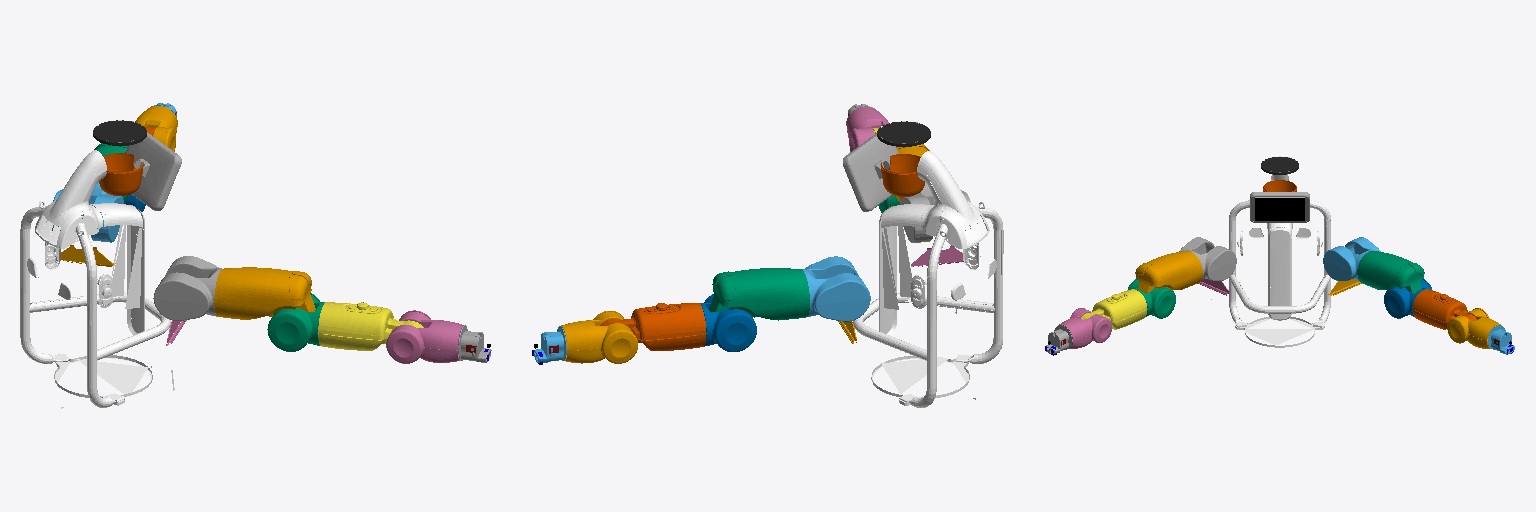
--- What the picture shows (computed from the rendered views, not written in the file) ---
Views: 3 orthographic renders of the robot side by side, from view 1: azimuth 30°, elevation 25°; view 2: azimuth 150°, elevation 25°; view 3: azimuth 270°, elevation 25°.
Model baxter with 49 links and 48 joints (15 revolute, 33 fixed), rooted at base, posed all joints at 0.
Visible links, largest first — view 1: torso, right_upper_elbow, right_upper_forearm, right_lower_shoulder, right_lower_forearm, screen, right_lower_elbow, head, sonar_ring, left_lower_forearm, left_lower_shoulder, right_wrist; view 2: torso, left_upper_elbow, left_upper_forearm, left_lower_shoulder, left_lower_forearm, screen, left_lower_elbow, head, sonar_ring, right_lower_forearm, right_lower_shoulder, left_wrist; view 3: torso, right_upper_elbow, left_upper_elbow, right_upper_forearm, left_upper_forearm, left_lower_shoulder, right_lower_shoulder, left_lower_forearm, right_lower_forearm, display, right_lower_elbow, left_lower_elbow (+2 smaller).
Link boxes in pixels (x1,y1,x2,y2): torso: (20, 120, 174, 408); right_upper_elbow: (214, 267, 315, 319); right_upper_forearm: (318, 302, 423, 350); right_lower_shoulder: (153, 256, 221, 320); right_lower_forearm: (386, 310, 463, 363); screen: (125, 132, 181, 210); right_lower_elbow: (267, 293, 324, 351); head: (99, 153, 143, 195); sonar_ring: (93, 120, 146, 145); left_lower_forearm: (135, 106, 177, 151); left_lower_shoulder: (52, 182, 123, 242); right_wrist: (458, 325, 491, 362); torso: (853, 121, 1003, 407); left_upper_elbow: (709, 268, 809, 320); left_upper_forearm: (600, 303, 706, 350); left_lower_shoulder: (802, 256, 870, 321); left_lower_forearm: (561, 311, 637, 363); screen: (843, 133, 898, 211); left_lower_elbow: (700, 294, 756, 351); head: (880, 154, 924, 196); sonar_ring: (877, 121, 930, 146); right_lower_forearm: (846, 107, 888, 151); right_lower_shoulder: (900, 182, 970, 242); left_wrist: (534, 326, 566, 362); torso: (1211, 156, 1330, 347); right_upper_elbow: (1135, 251, 1202, 293); left_upper_elbow: (1357, 251, 1424, 293); right_upper_forearm: (1081, 289, 1147, 329); left_upper_forearm: (1412, 289, 1476, 329); left_lower_shoulder: (1323, 237, 1380, 281); right_lower_shoulder: (1179, 237, 1236, 281); left_lower_forearm: (1447, 308, 1500, 348); right_lower_forearm: (1059, 308, 1111, 348); display: (1255, 198, 1304, 220); right_lower_elbow: (1128, 279, 1175, 318); left_lower_elbow: (1384, 279, 1431, 318).
Bounding box of the posed robot: 1.06 × 2.07 × 0.8942 m (x, y, z).
Meshes: 42 distinct files referenced, 38 mesh visuals loaded (23 OBJ); not drawn: 4 (reference not matched to a file when rendering).

The robot description file, URDF, robot "baxter":
<?xml version="1.0" ?>
<robot name="baxter">
   
  
   <link name="base">
  </link>
   
  
   <link name="torso">
      
    
      <collision>
         
      
         <origin rpy="0 0 0" xyz="0 0 0"/>
         
      
         <geometry>
            
        
            <mesh filename="package://baxter_description/meshes/torso/base_link_collision.DAE"/>
            
      
         </geometry>
         
    
      </collision>
      
    
      <inertial>
         
      
         <origin rpy="0 0 0" xyz="0.000000 0.000000 0.000000"/>
         
      
         <mass value="35.336455"/>
         
      
         <inertia ixx="1.849155" ixy="-0.000354" ixz="-0.154188" iyy="1.662671" iyz="0.003292" izz="0.802239"/>
         
    
      </inertial>
      
  
      <visual>
         <geometry>
            <mesh filename="../patched_visual_meshes/torso/base_link_part=0.obj"/>
         </geometry>
         <origin rpy="0.0 -0.0 0.0" xyz="0.0 0.0 0.0"/>
         <material name="mat_part7106">
            <color rgba="1.0 1.0 1.0 1.0"/>
         </material>
      </visual>
      <visual>
         <geometry>
            <mesh filename="../patched_visual_meshes/torso/base_link_part=1.obj"/>
         </geometry>
         <origin rpy="0.0 -0.0 0.0" xyz="0.0 0.0 0.0"/>
         <material name="mat_part4896">
            <color rgba="1.0 1.0 1.0 1.0"/>
         </material>
      </visual>
      <visual>
         <geometry>
            <mesh filename="../patched_visual_meshes/torso/base_link_part=2.obj"/>
         </geometry>
         <origin rpy="0.0 -0.0 0.0" xyz="0.0 0.0 0.0"/>
         <material name="mat_part865">
            <color rgba="1.0 1.0 1.0 1.0"/>
         </material>
      </visual>
      <visual>
         <geometry>
            <mesh filename="../patched_visual_meshes/torso/base_link_part=3.obj"/>
         </geometry>
         <origin rpy="0.0 -0.0 0.0" xyz="0.0 0.0 0.0"/>
         <material name="mat_part4314">
            <color rgba="1.0 1.0 1.0 1.0"/>
         </material>
      </visual>
      <visual>
         <geometry>
            <mesh filename="../patched_visual_meshes/torso/base_link_part=4.obj"/>
         </geometry>
         <origin rpy="0.0 -0.0 0.0" xyz="0.0 0.0 0.0"/>
         <material name="mat_part4625">
            <color rgba="1.0 1.0 1.0 1.0"/>
         </material>
      </visual>
      <visual>
         <geometry>
            <mesh filename="../patched_visual_meshes/torso/base_link_part=5.obj"/>
         </geometry>
         <origin rpy="0.0 -0.0 0.0" xyz="0.0 0.0 0.0"/>
         <material name="mat_part4949">
            <color rgba="1.0 1.0 1.0 1.0"/>
         </material>
      </visual>
   </link>
   
  
   <link name="left_torso_itb">
      
    
      <inertial>
         
      
         <origin rpy="0 0 0" xyz="0.000000 0.000000 0.000000"/>
         
      
         <mass value="0.0001"/>
         
      
         <inertia ixx="1e-08" ixy="0" ixz="0" iyy="1e-08" iyz="0" izz="1e-08"/>
         
    
      </inertial>
      
  
   </link>
   
  
   <link name="right_torso_itb">
      
    
      <inertial>
         
      
         <origin rpy="0 0 0" xyz="0.000000 0.000000 0.000000"/>
         
      
         <mass value="0.0001"/>
         
      
         <inertia ixx="1e-08" ixy="0" ixz="0" iyy="1e-08" iyz="0" izz="1e-08"/>
         
    
      </inertial>
      
  
   </link>
   
  
   <link name="pedestal">
      
    
      <collision>
         
      
         <origin rpy="0 0 0" xyz="0 0 0"/>
         
      
         <geometry>
            
        
            <mesh filename="package://baxter_description/meshes/base/pedestal_link_collision.DAE"/>
            
      
         </geometry>
         
    
      </collision>
      
    
      <inertial>
         
      
         <origin rpy="0 0 0" xyz="0 0 0"/>
         
      
         <mass value="60.86397744"/>
         
      
         <inertia ixx="5.0635929" ixy="0.00103417" ixz="0.80199628" iyy="6.08689388" iyz="0.00105311" izz="4.96191932"/>
         
    
      </inertial>
      
  
      <visual>
         <geometry>
            <mesh filename="../patched_visual_meshes/pedestal/PEDESTAL_part=0.obj"/>
         </geometry>
         <origin rpy="0.0 -0.0 0.0" xyz="0.0 0.0 0.0"/>
      </visual>
   </link>
   
  
   <link name="head">
      
    
      <collision>
         
      
         <origin rpy="0 0 0" xyz="0.0 0 0.0"/>
         
      
         <geometry>
            
        
            <sphere radius="0.001"/>
            
      
         </geometry>
         
    
      </collision>
      
    
      <inertial>
         
      
         <origin rpy="0 0 0" xyz="0 0 0"/>
         
      
         <mass value="0.547767"/>
         
      
         <inertia ixx="0.004641" ixy="0.000159" ixz="0.000242" iyy="0.003295" iyz="-0.001324" izz="0.003415"/>
         
    
      </inertial>
      
  
      <visual>
         <geometry>
            <mesh filename="../patched_visual_meshes/head/H0_part=0.obj"/>
         </geometry>
         <origin rpy="0.0 -0.0 0.0" xyz="0.0 0.0 0.00953"/>
      </visual>
   </link>
   
  
   <link name="sonar_ring">
      
    
      <visual>
         
      
         <origin rpy="0 0 0" xyz="-.0347 0 .00953"/>
         
      
         <geometry>
            
        
            <cylinder length="0.01" radius="0.085"/>
            
      
         </geometry>
         
      
         <material name="darkgray">
            
        
            <color rgba=".2 .2 .2 1"/>
            
      
         </material>
         
    
      </visual>
      
    
      <collision>
         
      
         <origin rpy="0 0 0" xyz="0.0 0 0.0"/>
         
      
         <geometry>
            
        
            <sphere radius="0.001"/>
            
      
         </geometry>
         
    
      </collision>
      
    
      <inertial>
         
      
         <origin rpy="0 0 0" xyz="0 0 0"/>
         
      
         <mass value="0.0001"/>
         
      
         <inertia ixx="1e-08" ixy="0" ixz="0" iyy="1e-08" iyz="0" izz="1e-08"/>
         
    
      </inertial>
      
  
   </link>
   
  
   <link name="screen">
      
    
      <collision>
         
      
         <origin rpy="0 0 0" xyz="0.0 0 0.0"/>
         
      
         <geometry>
            
        
            <sphere radius="0.001"/>
            
      
         </geometry>
         
    
      </collision>
      
    
      <inertial>
         
      
         <origin rpy="0 0 0" xyz="0 0 0"/>
         
      
         <mass value="0.440171"/>
         
      
         <inertia ixx="0.004006" ixy="0.000230" ixz="0.000002" iyy="0.002800" iyz="0.000029" izz="0.001509"/>
         
    
      </inertial>
      
  
      <visual>
         <geometry>
            <mesh filename="../patched_visual_meshes/screen/H1_part=0.obj"/>
         </geometry>
         <origin rpy="-0.0 -1.5707963267948966 0.0" xyz="0.0 -0.00953 -0.0347"/>
      </visual>
      <visual>
         <geometry>
            <mesh filename="../patched_visual_meshes/screen/H1_part=1.obj"/>
         </geometry>
         <origin rpy="-0.0 -1.5707963267948966 0.0" xyz="0.0 -0.00953 -0.0347"/>
      </visual>
   </link>
   
  
   <link name="display">
      
    
      <visual>
         
      
         <origin rpy="0.2617993877991494 0 0" xyz="0 0 0"/>
         
      
         <geometry>
            
        
            <box size="0.218 0.16 0.001"/>
            
      
         </geometry>
         
      
         <material name="black">
            
        
            <color rgba="0 0 0 1"/>
            
      
         </material>
         
    
      </visual>
      
    
      <inertial>
         
      
         <origin rpy="0 0 0" xyz="0 0 0"/>
         
      
         <mass value="0.0001"/>
         
      
         <inertia ixx="1e-08" ixy="0" ixz="0" iyy="1e-08" iyz="0" izz="1e-08"/>
         
    
      </inertial>
      
  
   </link>
   
  
   <link name="head_camera">
      
    
      <inertial>
         
      
         <origin rpy="0 0 0" xyz="0 0 0"/>
         
      
         <mass value="0.0001"/>
         
      
         <inertia ixx="1e-08" ixy="0" ixz="0" iyy="1e-08" iyz="0" izz="1e-08"/>
         
    
      </inertial>
      
  
   </link>
   
  
   <link name="dummyhead1">
      
    
      <inertial>
         
      
         <origin rpy="0 0 0" xyz="0 0 0"/>
         
      
         <mass value="0.0001"/>
         
      
         <inertia ixx="1e-08" ixy="0" ixz="0" iyy="1e-08" iyz="0" izz="1e-08"/>
         
    
      </inertial>
      
  
   </link>
   
  
   <link name="collision_head_link_1">
      
    
      <visual>
         
      
         <origin rpy="0 0 0" xyz="0 0 0"/>
         
      
         <geometry>
            
        
            <sphere radius="0.001"/>
            
      
         </geometry>
         
      
         <material name="red">
            
        
            <color rgba="0.8 0.3 0.3 0.3"/>
            
      
         </material>
         
    
      </visual>
      
    
      <collision>
         
      
         <origin rpy="0 0 0.0" xyz="-0.07 -0.04 0.0"/>
         
      
         <geometry>
            
        
            <sphere radius="0.22"/>
            
      
         </geometry>
         
    
      </collision>
      
    
      <inertial>
         
      
         <origin rpy="0 0 0" xyz="0 0 0"/>
         
      
         <mass value="0.0001"/>
         
      
         <inertia ixx="1e-08" ixy="0" ixz="0" iyy="1e-08" iyz="0" izz="1e-08"/>
         
    
      </inertial>
      
  
   </link>
   
  
   <link name="collision_head_link_2">
      
    
      <visual>
         
      
         <origin rpy="0 0 0" xyz="0 0 0"/>
         
      
         <geometry>
            
        
            <sphere radius="0.001"/>
            
      
         </geometry>
         
      
         <material name="red">
            
        
            <color rgba="0.8 0.3 0.3 0.3"/>
            
      
         </material>
         
    
      </visual>
      
    
      <collision>
         
      
         <origin rpy="0 0 0" xyz="-0.07 0.04 0.00"/>
         
      
         <geometry>
            
        
            <sphere radius="0.22"/>
            
      
         </geometry>
         
    
      </collision>
      
    
      <inertial>
         
      
         <origin rpy="0 0 0" xyz="0 0 0"/>
         
      
         <mass value="0.0001"/>
         
      
         <inertia ixx="1e-08" ixy="0" ixz="0" iyy="1e-08" iyz="0" izz="1e-08"/>
         
    
      </inertial>
      
  
   </link>
   
  
   <joint name="collision_head_1" type="fixed">
      
    
      <origin rpy="0 0 0" xyz="0.11 0 0.75"/>
      
    
      <parent link="base"/>
      
    
      <child link="collision_head_link_1"/>
      
  
   </joint>
   
  
   <joint name="collision_head_2" type="fixed">
      
    
      <origin rpy="0 0 0" xyz="0.11 0 0.75"/>
      
    
      <parent link="base"/>
      
    
      <child link="collision_head_link_2"/>
      
  
   </joint>
   
  
   <joint name="dummy" type="fixed">
      
    
      <origin rpy="0 0 0" xyz="0 0 0"/>
      
    
      <parent link="head"/>
      
    
      <child link="dummyhead1"/>
      
  
   </joint>
   
  
   <joint name="torso_t0" type="fixed">
      
    
      <origin rpy="0 0 0" xyz="0 0 0"/>
      
    
      <parent link="base"/>
      
    
      <child link="torso"/>
      
    
      <limit effort="50000" lower="-3.01" upper="3.01" velocity="10000"/>
      
  
   </joint>
   
  
   <joint name="left_torso_itb_fixed" type="fixed">
      
    
      <origin rpy="-1.57079632679 3.1415 0" xyz="-0.08897 0.15593 0.389125"/>
      
    
      <parent link="torso"/>
      
    
      <child link="left_torso_itb"/>
      
  
   </joint>
   
  
   <joint name="right_torso_itb_fixed" type="fixed">
      
    
      <origin rpy="1.57079632679 0 0" xyz="-0.08897 -0.15593 0.389125"/>
      
    
      <parent link="torso"/>
      
    
      <child link="right_torso_itb"/>
      
  
   </joint>
   
  
   <joint name="pedestal_fixed" type="fixed">
      
    
      <origin rpy="0 0 0" xyz="0.0 0.0 0.0"/>
      
    
      <parent link="torso"/>
      
    
      <child link="pedestal"/>
      
  
   </joint>
   
  
   <joint name="head_pan" type="revolute">
      
    
      <origin rpy="0 0 0" xyz="0.06 0 0.686"/>
      
    
      <axis xyz="0 0 1"/>
      
    
      <parent link="torso"/>
      
    
      <child link="head"/>
      
    
      <limit effort="50000" lower="-1.57079632679" upper="1.57079632679" velocity="10000"/>
      
    
      <dynamics damping="0.7" friction="0.0"/>
      
  
   </joint>
   
  
   <joint name="head_nod" type="fixed">
      
    
      <origin rpy="1.75057 0 1.57079632679" xyz=".1227 0 0"/>
      
    
      <parent link="head"/>
      
    
      <child link="screen"/>
      
  
   </joint>
   
  
   <joint name="head_camera" type="fixed">
      
    
      <origin rpy="1.75057 0 1.57079632679" xyz="0.12839 0 0.06368"/>
      
    
      <parent link="head"/>
      
    
      <child link="head_camera"/>
      
  
   </joint>
   
  
   <joint name="display_joint" type="fixed">
      
    
      <origin rpy="0 0 0" xyz="0.0 -0.016 0.0"/>
      
    
      <parent link="screen"/>
      
    
      <child link="display"/>
      
  
   </joint>
   
  
   <joint name="sonar_s0" type="fixed">
      
    
      <origin rpy="0 0 0" xyz="0.0947 0 .817"/>
      
    
      <axis xyz="0 0 1"/>
      
    
      <parent link="torso"/>
      
    
      <child link="sonar_ring"/>
      
  
   </joint>
   
  
   <link name="right_arm_mount">
      
    
 
      <gravity>0</gravity>
      
    
      <inertial>
         
      
         <origin rpy="0 0 0" xyz="0 0 0"/>
         
      
         <mass value="0.0001"/>
         
      
         <inertia ixx="1e-08" ixy="0" ixz="0" iyy="1e-08" iyz="0" izz="1e-08"/>
         
    
      </inertial>
      
  
   </link>
   
  
   <link name="right_upper_shoulder">
      
 
      <gravity>0</gravity>
      
    
      <collision>
         
      
         <origin rpy="0 0 0" xyz="0 0 0.1361"/>
         
      
         <geometry>
            
        
            <cylinder length="0.2722" radius="0.06"/>
            
      
         </geometry>
         
    
      </collision>
      
    
      <inertial>
         
      
         <origin rpy="0 0 0" xyz="0.01783 0.00086 0.19127"/>
         
      
         <mass value="5.70044"/>
         
      
         <inertia ixx="0.04709102262" ixy="0.00012787556" ixz="0.00614870039" iyy="0.03766976455" iyz="0.00078086899" izz="0.03595988478"/>
         
    
      </inertial>
      
  
      <visual>
         <geometry>
            <mesh filename="../patched_visual_meshes/right_upper_shoulder/S0_part=0.obj"/>
         </geometry>
         <origin rpy="0.0 -0.0 0.0" xyz="0.0 0.0 0.0"/>
      </visual>
      <visual>
         <geometry>
            <mesh filename="../patched_visual_meshes/right_upper_shoulder/S0_part=1.obj"/>
         </geometry>
         <origin rpy="0.0 -0.0 0.0" xyz="0.0 0.0 0.0"/>
      </visual>
   </link>
   
  
   <link name="right_lower_shoulder">
      
 
      <gravity>0</gravity>
      
    
      <collision>
         
      
         <origin rpy="0 0 0" xyz="0 0 0"/>
         
      
         <geometry>
            
        
            <cylinder length="0.12" radius="0.06"/>
            
      
         </geometry>
         
    
      </collision>
      
    
      <inertial>
         
      
         <origin rpy="0 0 0" xyz="0.06845 0.00269 -0.00529"/>
         
      
         <mass value="3.22698"/>
         
      
         <inertia ixx="0.01175209419" ixy="-0.00030096398" ixz="0.00207675762" iyy="0.0278859752" iyz="-0.00018821993" izz="0.02078749298"/>
         
    
      </inertial>
      
  
      <visual>
         <geometry>
            <mesh filename="../patched_visual_meshes/right_lower_shoulder/S1_part=0.obj"/>
         </geometry>
         <origin rpy="0.0 -0.0 0.0" xyz="0.0 0.0 0.0"/>
      </visual>
   </link>
   
  
   <link name="right_upper_elbow">
      
 
      <gravity>0</gravity>
      
    
      <collision>
         
      
         <origin rpy="0 0 0" xyz="0 0 -0.0535"/>
         
      
         <geometry>
            
        
            <cylinder length="0.107" radius="0.06"/>
            
      
         </geometry>
         
    
      </collision>
      
    
      <inertial>
         
      
         <origin rpy="0 0 0" xyz="-0.00276 0.00132 0.18086"/>
         
      
         <mass value="4.31272"/>
         
      
         <inertia ixx="0.02661733557" ixy="0.00029270634" ixz="0.00392189887" iyy="0.02844355207" iyz="0.0010838933" izz="0.01248008322"/>
         
    
      </inertial>
      
  
      <visual>
         <geometry>
            <mesh filename="../patched_visual_meshes/right_upper_elbow/E0_part=0.obj"/>
         </geometry>
         <origin rpy="0.0 -0.0 0.0" xyz="0.0 0.0 0.0"/>
      </visual>
      <visual>
         <geometry>
            <mesh filename="../patched_visual_meshes/right_upper_elbow/E0_part=1.obj"/>
         </geometry>
         <origin rpy="0.0 -0.0 0.0" xyz="0.0 0.0 0.0"/>
      </visual>
   </link>
   
  
   <link name="right_upper_elbow_visual">
      
 
      <gravity>0</gravity>
      
    
      <collision>
         
      
         <origin rpy="0 0 0" xyz="0 0 0.1365"/>
         
      
         <geometry>
            
        
            <cylinder length="0.273" radius="0.06"/>
            
      
         </geometry>
         
    
      </collision>
      
    
      <inertial>
         
      
         <origin rpy="0 0 0" xyz="0 0 0"/>
         
      
         <mass value="0.0001"/>
         
      
         <inertia ixx="1e-08" ixy="0" ixz="0" iyy="1e-08" iyz="0" izz="1e-08"/>
         
    
      </inertial>
      
  
   </link>
   
  
   <link name="right_lower_elbow">
      
 
      <gravity>0</gravity>
      
    
      <collision>
         
      
         <origin rpy="0 0 0" xyz="0.0 0.0 0.0"/>
         
      
         <geometry>
            
        
            <cylinder length="0.10" radius="0.06"/>
            
      
         </geometry>
         
    
      </collision>
      
    
      <inertial>
         
      
         <origin rpy="0 0 0" xyz="0.02611 0.00159 -0.01117"/>
         
      
         <mass value="2.07206"/>
         
      
         <inertia ixx="0.00711582686" ixy="0.00036036173" ixz="0.0007459496" iyy="0.01318227876" iyz="-0.00019663418" izz="0.00926852064"/>
         
    
      </inertial>
      
  
      <visual>
         <geometry>
            <mesh filename="../patched_visual_meshes/right_lower_elbow/E1_part=0.obj"/>
         </geometry>
         <origin rpy="0.0 -0.0 0.0" xyz="0.0 0.0 0.0"/>
      </visual>
      <visual>
         <geometry>
            <mesh filename="../patched_visual_meshes/right_lower_elbow/E1_part=1.obj"/>
         </geometry>
         <origin rpy="0.0 -0.0 0.0" xyz="0.0 0.0 0.0"/>
      </visual>
   </link>
   
  
   <link name="right_upper_forearm">
      
 
      <gravity>0</gravity>
      
    
      <collision>
         
      
         <origin rpy="0 0 0" xyz="0 0 -0.044"/>
         
      
         <geometry>
            
        
            <cylinder length="0.088" radius="0.06"/>
            
      
         </geometry>
         
    
      </collision>
      
    
      <inertial>
         
      
         <origin rpy="0 0 0" xyz="-0.00168 0.0046 0.13952"/>
         
      
         <mass value="2.24665"/>
         
      
         <inertia ixx="0.01667742825" ixy="0.00018403705" ixz="0.00018657629" iyy="0.01675457264" iyz="-0.00064732352" izz="0.0037463115"/>
         
    
      </inertial>
      
  
      <visual>
         <geometry>
            <mesh filename="../patched_visual_meshes/right_upper_forearm/W0_part=0.obj"/>
         </geometry>
         <origin rpy="0.0 -0.0 0.0" xyz="0.0 0.0 0.0"/>
      </visual>
      <visual>
         <geometry>
            <mesh filename="../patched_visual_meshes/right_upper_forearm/W0_part=1.obj"/>
         </geometry>
         <origin rpy="0.0 -0.0 0.0" xyz="0.0 0.0 0.0"/>
      </visual>
      <visual>
         <geometry>
            <mesh filename="../patched_visual_meshes/right_upper_forearm/W0_part=2.obj"/>
         </geometry>
         <origin rpy="0.0 -0.0 0.0" xyz="0.0 0.0 0.0"/>
      </visual>
      <visual>
         <geometry>
            <mesh filename="../patched_visual_meshes/right_upper_forearm/W0_part=3.obj"/>
         </geometry>
         <origin rpy="0.0 -0.0 0.0" xyz="0.0 0.0 0.0"/>
      </visual>
   </link>
   
  
   <link name="right_upper_forearm_visual">
      
 
      <gravity>0</gravity>
      
    
      <collision>
         
      
         <origin rpy="0 0 0" xyz="0 0 0.136"/>
         
      
         <geometry>
            
        
            <cylinder length="0.272" radius="0.06"/>
            
      
         </geometry>
         
    
      </collision>
      
    
      <inertial>
         
      
         <origin rpy="0 0 0" xyz="0 0 0"/>
         
      
         <mass value="0.0001"/>
         
      
         <inertia ixx="1e-08" ixy="0" ixz="0" iyy="1e-08" iyz="0" izz="1e-08"/>
         
    
      </inertial>
      
  
   </link>
   
  
   <link name="right_arm_itb">
      
 
      <gravity>0</gravity>
      
    
      <inertial>
         
      
         <origin rpy="0 0 0" xyz="0.000000 0.000000 0.000000"/>
         
      
         <mass value="0.0001"/>
         
      
         <inertia ixx="1e-08" ixy="0" ixz="0" iyy="1e-08" iyz="0" izz="1e-08"/>
         
    
      </inertial>
      
  
   </link>
   
  
   <link name="right_lower_forearm">
      
 
      <gravity>0</gravity>
      
    
      <collision>
         
      
         <origin rpy="0 0 0" xyz="0 0 0"/>
         
      
         <geometry>
            
        
            <cylinder length="0.10" radius="0.06"/>
            
      
         </geometry>
         
    
      </collision>
      
    
      <inertial>
         
      
         <origin rpy="0 0 0" xyz="0.06041 0.00697 0.006"/>
         
      
         <mass value="1.60979"/>
         
      
         <inertia ixx="0.00387607152" ixy="-0.00044384784" ixz="-0.00021115038" iyy="0.00700537914" iyz="0.00015348067" izz="0.0055275524"/>
         
    
      </inertial>
      
  
      <visual>
         <geometry>
            <mesh filename="../patched_visual_meshes/right_lower_forearm/W1_part=0.obj"/>
         </geometry>
         <origin rpy="-3.1415908336597447 -0.0 0.0" xyz="0.0 0.0 0.0"/>
      </visual>
      <visual>
         <geometry>
            <mesh filename="../patched_visual_meshes/right_lower_forearm/W1_part=1.obj"/>
         </geometry>
         <origin rpy="-3.1415908336597447 -0.0 0.0" xyz="0.0 0.0 0.0"/>
      </visual>
   </link>
   
  
   <link name="right_wrist">
      
 
      <gravity>0</gravity>
      
    
      <collision>
         
      
         <origin rpy="0 0 0" xyz="0 0 0"/>
         
      
         <geometry>
            
        
            <cylinder length="0.165" radius="0.06"/>
            
      
         </geometry>
         
    
      </collision>
      
    
      <inertial>
         
      
         <origin rpy="0 0 0" xyz="0.00198 0.00125 0.01855"/>
         
      
         <mass value="0.35093"/>
         
      
         <inertia ixx="0.00025289155" ixy="0.00000575311" ixz="-0.00000159345" iyy="0.0002688601" iyz="-0.00000519818" izz="0.0003074118"/>
         
    
      </inertial>
      
  
      <visual>
         <geometry>
            <mesh filename="../patched_visual_meshes/right_wrist/W2_part=0.obj"/>
         </geometry>
         <origin rpy="0.0 -0.0 0.0" xyz="0.0 0.0 0.0"/>
      </visual>
      <visual>
         <geometry>
            <mesh filename="../patched_visual_meshes/right_wrist/W2_part=1.obj"/>
         </geometry>
         <origin rpy="0.0 -0.0 0.0" xyz="0.0 0.0 0.0"/>
      </visual>
      <visual>
         <geometry>
            <mesh filename="../patched_visual_meshes/right_wrist/W2_part=2.obj"/>
         </geometry>
         <origin rpy="0.0 -0.0 0.0" xyz="0.0 0.0 0.0"/>
      </visual>
   </link>
   
  
   <link name="right_hand">
      
 
      <gravity>0</gravity>
      
    
      <collision>
         
      
         <origin rpy="0 0 0" xyz="0 0 -0.0232"/>
         
      
         <geometry>
            
        
            <cylinder length="0.0464" radius="0.04"/>
            
      
         </geometry>
         
    
      </collision>
      
    
      <inertial>
         
      
         <origin rpy="0 0 0" xyz="0.01093 0.00042 -0.01532"/>
         
      
         <mass value="0.19125"/>
         
      
         <inertia ixx="0.00017588" ixy="0.00000147073" ixz="0.0000243633" iyy="0.00021166377" iyz="0.00000172689" izz="0.00023745397"/>
         
    
      </inertial>
      
  
   </link>
   
  
   <link name="right_hand_camera">
      
 
      <gravity>0</gravity>
      
    
      <visual>
         
      
         <origin rpy="0 0 0" xyz="0 0 0"/>
         
      
         <geometry>
            
        
            <cylinder length="0.01" radius="0.02"/>
            
      
         </geometry>
         
      
         <material name="blue">
            
        
            <color rgba="0 0 1 0.8"/>
            
      
         </material>
         
    
      </visual>
      
    
      <inertial>
         
      
         <origin rpy="0 0 0" xyz="0 0 0"/>
         
      
         <mass value="0.0001"/>
         
      
         <inertia ixx="1e-08" ixy="0" ixz="0" iyy="1e-08" iyz="0" izz="1e-08"/>
         
    
      </inertial>
      
  
   </link>
   
  
   <link name="right_hand_camera_axis">
      
 
      <gravity>0</gravity>
      
    
      <inertial>
         
      
         <origin rpy="0 0 0" xyz="0 0 0"/>
         
      
         <mass value="0.0001"/>
         
      
         <inertia ixx="1e-08" ixy="0" ixz="0" iyy="1e-08" iyz="0" izz="1e-08"/>
         
    
      </inertial>
      
  
   </link>
   
  
   <link name="right_hand_range">
      
 
      <gravity>0</gravity>
      
    
      <visual>
         
      
         <origin rpy="0 0 0" xyz="0 0 0"/>
         
      
         <geometry>
            
        
            <box size="0.005 .02 .005"/>
            
      
         </geometry>
         
      
         <material name="blue">
            
        
            <color rgba="0 0 1 0.8"/>
            
      
         </material>
         
    
      </visual>
      
    
      <inertial>
         
      
         <origin rpy="0 0 0" xyz="0 0 0"/>
         
      
         <mass value="0.0001"/>
         
      
         <inertia ixx="1e-08" ixy="0" ixz="0" iyy="1e-08" iyz="0" izz="1e-08"/>
         
    
      </inertial>
      
  
   </link>
   
  
   <link name="right_hand_accelerometer">
      
 
      <gravity>0</gravity>
      
    
      <visual>
         
      
         <origin rpy="0 0 0" xyz="0 0 0"/>
         
      
         <geometry>
            
        
            <box size="0.01 0.01 0.01"/>
            
      
         </geometry>
         
      
         <material name="black">
            
        
            <color rgba="0 0 0 1"/>
            
      
         </material>
         
    
      </visual>
      
    
      <inertial>
         
      
         <origin rpy="0 0 0" xyz="0.000000 0.000000 0.000000"/>
         
      
         <mass value="0.0001"/>
         
      
         <inertia ixx="1e-08" ixy="0" ixz="0" iyy="1e-08" iyz="0" izz="1e-08"/>
         
    
      </inertial>
      
  
   </link>
   
  
   <link name="right_gripper_base">
      
 
      <gravity>0</gravity>
      
    
      <visual>
         
      
         <origin rpy="0 0 0" xyz="0 0 -0.02"/>
         
      
         <geometry>
            
        
            <box size="0.025 0.075 0.035"/>
            
      
         </geometry>
         
      
         <material name="darkred">
            
        
            <color rgba=".5 .1 .1 1"/>
            
      
         </material>
         
    
      </visual>
      
    
      <inertial>
         
      
         <origin rpy="0 0 0" xyz="0.000000 0.000000 0.000000"/>
         
      
         <mass value="0.0001"/>
         
      
         <inertia ixx="1e-08" ixy="0" ixz="0" iyy="1e-08" iyz="0" izz="1e-08"/>
         
    
      </inertial>
      
  
   </link>
   
  
   <link name="right_gripper">
      
 
      <gravity>0</gravity>
      
    
      <visual>
         
      
         <origin rpy="0 0 0" xyz="0 0 0"/>
         
      
         <geometry>
            
        
            <box size="0.01 0.01 0.01"/>
            
      
         </geometry>
         
      
         <material name="black">
            
        
            <color rgba="0 0 0 1"/>
            
      
         </material>
         
    
      </visual>
      
    
      <inertial>
         
      
         <origin rpy="0 0 0" xyz="0.000000 0.000000 0.000000"/>
         
      
         <mass value="0.0001"/>
         
      
         <inertia ixx="1e-08" ixy="0" ixz="0" iyy="1e-08" iyz="0" izz="1e-08"/>
         
    
      </inertial>
      
  
   </link>
   
  
   <joint name="right_torso_arm_mount" type="fixed">
      
    
      <origin rpy="0 0 -0.7854" xyz="0.024645 -0.219645 0.118588"/>
      
    
      <parent link="torso"/>
      
    
      <child link="right_arm_mount"/>
      
  
   </joint>
   
  
   <joint name="right_s0" type="revolute">
      
    
      <origin rpy="0 0 0" xyz="0.055695 0 0.011038"/>
      
    
      <axis xyz="0 0 1"/>
      
    
      <parent link="right_arm_mount"/>
      
    
      <child link="right_upper_shoulder"/>
      
    
      <limit effort="50.0" lower="-1.70167993878" upper="1.70167993878" velocity="1.5"/>
      
    
      <dynamics damping="0.7" friction="0.0"/>
      
  
   </joint>
   
  
   <joint name="right_s1" type="revolute">
      
    
      <origin rpy="-1.57079632679 0 0" xyz="0.069 0 0.27035"/>
      
    
      <axis xyz="0 0 1"/>
      
    
      <parent link="right_upper_shoulder"/>
      
    
      <child link="right_lower_shoulder"/>
      
    
      <limit effort="100.0" lower="-2.147" upper="1.047" velocity="1.5"/>
      
    
      <dynamics damping="0.7" friction="0.0"/>
      
  
   </joint>
   
  
   <joint name="right_e0" type="revolute">
      
    
      <origin rpy="1.57079632679 0 1.57079632679" xyz="0.102 0 0"/>
      
    
      <axis xyz="0 0 1"/>
      
    
      <parent link="right_lower_shoulder"/>
      
    
      <child link="right_upper_elbow"/>
      
    
      <limit effort="50.0" lower="-3.05417993878" upper="3.05417993878" velocity="1.5"/>
      
    
      <dynamics damping="0.7" friction="0.0"/>
      
  
   </joint>
   
  
   <joint name="right_e0_fixed" type="fixed">
      
    
      <origin rpy="1.57079632679 0 1.57079632679" xyz="0.107 0 0"/>
      
    
      <axis xyz="0 0 1"/>
      
    
      <parent link="right_lower_shoulder"/>
      
    
      <child link="right_upper_elbow_visual"/>
      
  
   </joint>
   
  
   <joint name="right_e1" type="revolute">
      
    
      <origin rpy="-1.57079632679 -1.57079632679 0" xyz="0.069 0 0.26242"/>
      
    
      <axis xyz="0 0 1"/>
      
    
      <parent link="right_upper_elbow"/>
      
    
      <child link="right_lower_elbow"/>
      
    
      <limit effort="50.0" lower="-0.05" upper="2.618" velocity="1.5"/>
      
    
      <dynamics damping="0.7" friction="0.0"/>
      
  
   </joint>
   
  
   <joint name="right_w0" type="revolute">
      
    
      <origin rpy="1.57079632679 0 1.57079632679" xyz="0.10359 0 0"/>
      
    
      <axis xyz="0 0 1"/>
      
    
      <parent link="right_lower_elbow"/>
      
    
      <child link="right_upper_forearm"/>
      
    
      <limit effort="15.0" lower="-3.059" upper="3.059" velocity="4.0"/>
      
    
      <dynamics damping="0.7" friction="0.0"/>
      
  
   </joint>
   
  
   <joint name="right_w0_fixed" type="fixed">
      
    
      <origin rpy="1.57079632679 0 1.57079632679" xyz="0.088 0 0"/>
      
    
      <axis xyz="0 0 1"/>
      
    
      <parent link="right_lower_elbow"/>
      
    
      <child link="right_upper_forearm_visual"/>
      
  
   </joint>
   
  
   <joint name="right_w0_to_itb_fixed" type="fixed">
      
    
      <origin rpy="-1.57079632679 0 1.57079632679" xyz="-0.0565 0 0.12"/>
      
    
      <axis xyz="0 0 1"/>
      
    
      <parent link="right_upper_forearm"/>
      
    
      <child link="right_arm_itb"/>
      
  
   </joint>
   
  
   <joint name="right_w1" type="revolute">
      
    
      <origin rpy="-1.57079632679 -1.57079632679 0" xyz="0.01 0 0.2707"/>
      
    
      <axis xyz="0 0 1"/>
      
    
      <parent link="right_upper_forearm"/>
      
    
      <child link="right_lower_forearm"/>
      
    
      <limit effort="15.0" lower="-1.57079632679" upper="2.094" velocity="4.0"/>
      
    
      <dynamics damping="0.7" friction="0.0"/>
      
  
   </joint>
   
  
   <joint name="right_w2" type="revolute">
      
    
      <origin rpy="1.57079632679 0 1.57079632679" xyz="0.115975 0 0"/>
      
    
      <axis xyz="0 0 1"/>
      
    
      <parent link="right_lower_forearm"/>
      
    
      <child link="right_wrist"/>
      
    
      <limit effort="15.0" lower="-3.059" upper="3.059" velocity="4.0"/>
      
    
      <dynamics damping="0.7" friction="0.0"/>
      
  
   </joint>
   
  
   <joint name="right_hand" type="fixed">
      
    
      <origin rpy="0 0 0" xyz="0 0 0.11355"/>
      
    
      <axis xyz="0 0 1"/>
      
    
      <parent link="right_wrist"/>
      
    
      <child link="right_hand"/>
      
    
      <dynamics damping="0.7" friction="0.0"/>
      
  
   </joint>
   
  
   <joint name="right_hand_camera" type="fixed">
      
    
      <origin rpy="0 0 -1.57079633" xyz="0.03825 0.012 0.015355"/>
      
    
      <parent link="right_hand"/>
      
    
      <child link="right_hand_camera"/>
      
  
   </joint>
   
  
   <joint name="right_hand_camera_axis" type="fixed">
      
    
      <origin rpy="0 0 0" xyz="0.03825 0.012 0.015355"/>
      
    
      <parent link="right_hand"/>
      
    
      <child link="right_hand_camera_axis"/>
      
  
   </joint>
   
  
   <joint name="right_hand_range" type="fixed">
      
    
      <origin rpy="0 -1.57079632679 -1.57079632679" xyz="0.032 -0.020245 0.0288"/>
      
    
      <parent link="right_hand"/>
      
    
      <child link="right_hand_range"/>
      
  
   </joint>
   
  
   <joint name="right_hand_accelerometer" type="fixed">
      
    
      <origin rpy="0 0 0" xyz="0.00198 0.000133 -0.0146"/>
      
    
      <parent link="right_hand"/>
      
    
      <child link="right_hand_accelerometer"/>
      
  
   </joint>
   
  
   <joint name="right_gripper_base" type="fixed">
      
    
      <origin rpy="0 0 0" xyz="0 0 0"/>
      
    
      <parent link="right_hand"/>
      
    
      <child link="right_gripper_base"/>
      
  
   </joint>
   
  
   <joint name="right_endpoint" type="fixed">
      
    
      <origin rpy="0 0 0" xyz="0.0 0 0.025"/>
      
    
      <parent link="right_gripper_base"/>
      
    
      <child link="right_gripper"/>
      
  
   </joint>
   
  
   <link name="left_arm_mount">
      
    
 
      <gravity>0</gravity>
      
    
      <inertial>
         
      
         <origin rpy="0 0 0" xyz="0 0 0"/>
         
      
         <mass value="0.0001"/>
         
      
         <inertia ixx="1e-08" ixy="0" ixz="0" iyy="1e-08" iyz="0" izz="1e-08"/>
         
    
      </inertial>
      
  
   </link>
   
  
   <link name="left_upper_shoulder">
      
 
      <gravity>0</gravity>
      
    
      <collision>
         
      
         <origin rpy="0 0 0" xyz="0 0 0.1361"/>
         
      
         <geometry>
            
        
            <cylinder length="0.2722" radius="0.06"/>
            
      
         </geometry>
         
    
      </collision>
      
    
      <inertial>
         
      
         <origin rpy="0 0 0" xyz="0.01783 0.00086 0.19127"/>
         
      
         <mass value="5.70044"/>
         
      
         <inertia ixx="0.04709102262" ixy="0.00012787556" ixz="0.00614870039" iyy="0.03766976455" iyz="0.00078086899" izz="0.03595988478"/>
         
    
      </inertial>
      
  
      <visual>
         <geometry>
            <mesh filename="../patched_visual_meshes/left_upper_shoulder/S0_part=0.obj"/>
         </geometry>
         <origin rpy="0.0 -0.0 0.0" xyz="0.0 0.0 0.0"/>
      </visual>
      <visual>
         <geometry>
            <mesh filename="../patched_visual_meshes/left_upper_shoulder/S0_part=1.obj"/>
         </geometry>
         <origin rpy="0.0 -0.0 0.0" xyz="0.0 0.0 0.0"/>
      </visual>
   </link>
   
  
   <link name="left_lower_shoulder">
      
 
      <gravity>0</gravity>
      
    
      <collision>
         
      
         <origin rpy="0 0 0" xyz="0 0 0"/>
         
      
         <geometry>
            
        
            <cylinder length="0.12" radius="0.06"/>
            
      
         </geometry>
         
    
      </collision>
      
    
      <inertial>
         
      
         <origin rpy="0 0 0" xyz="0.06845 0.00269 -0.00529"/>
         
      
         <mass value="3.22698"/>
         
      
         <inertia ixx="0.01175209419" ixy="-0.00030096398" ixz="0.00207675762" iyy="0.0278859752" iyz="-0.00018821993" izz="0.02078749298"/>
         
    
      </inertial>
      
  
      <visual>
         <geometry>
            <mesh filename="../patched_visual_meshes/left_lower_shoulder/S1_part=0.obj"/>
         </geometry>
         <origin rpy="0.0 -0.0 0.0" xyz="0.0 0.0 0.0"/>
      </visual>
   </link>
   
  
   <link name="left_upper_elbow">
      
 
      <gravity>0</gravity>
      
    
      <collision>
         
      
         <origin rpy="0 0 0" xyz="0 0 -0.0535"/>
         
      
         <geometry>
            
        
            <cylinder length="0.107" radius="0.06"/>
            
      
         </geometry>
         
    
      </collision>
      
    
      <inertial>
         
      
         <origin rpy="0 0 0" xyz="-0.00276 0.00132 0.18086"/>
         
      
         <mass value="4.31272"/>
         
      
         <inertia ixx="0.02661733557" ixy="0.00029270634" ixz="0.00392189887" iyy="0.02844355207" iyz="0.0010838933" izz="0.01248008322"/>
         
    
      </inertial>
      
  
      <visual>
         <geometry>
            <mesh filename="../patched_visual_meshes/left_upper_elbow/E0_part=0.obj"/>
         </geometry>
         <origin rpy="0.0 -0.0 0.0" xyz="0.0 0.0 0.0"/>
      </visual>
      <visual>
         <geometry>
            <mesh filename="../patched_visual_meshes/left_upper_elbow/E0_part=1.obj"/>
         </geometry>
         <origin rpy="0.0 -0.0 0.0" xyz="0.0 0.0 0.0"/>
      </visual>
   </link>
   
  
   <link name="left_upper_elbow_visual">
      
 
      <gravity>0</gravity>
      
    
      <collision>
         
      
         <origin rpy="0 0 0" xyz="0 0 0.1365"/>
         
      
         <geometry>
            
        
            <cylinder length="0.273" radius="0.06"/>
            
      
         </geometry>
         
    
      </collision>
      
    
      <inertial>
         
      
         <origin rpy="0 0 0" xyz="0 0 0"/>
         
      
         <mass value="0.0001"/>
         
      
         <inertia ixx="1e-08" ixy="0" ixz="0" iyy="1e-08" iyz="0" izz="1e-08"/>
         
    
      </inertial>
      
  
   </link>
   
  
   <link name="left_lower_elbow">
      
 
      <gravity>0</gravity>
      
    
      <collision>
         
      
         <origin rpy="0 0 0" xyz="0.0 0.0 0.0"/>
         
      
         <geometry>
            
        
            <cylinder length="0.10" radius="0.06"/>
            
      
         </geometry>
         
    
      </collision>
      
    
      <inertial>
         
      
         <origin rpy="0 0 0" xyz="0.02611 0.00159 -0.01117"/>
         
      
         <mass value="2.07206"/>
         
      
         <inertia ixx="0.00711582686" ixy="0.00036036173" ixz="0.0007459496" iyy="0.01318227876" iyz="-0.00019663418" izz="0.00926852064"/>
         
    
      </inertial>
      
  
      <visual>
         <geometry>
            <mesh filename="../patched_visual_meshes/left_lower_elbow/E1_part=0.obj"/>
         </geometry>
         <origin rpy="0.0 -0.0 0.0" xyz="0.0 0.0 0.0"/>
      </visual>
      <visual>
         <geometry>
            <mesh filename="../patched_visual_meshes/left_lower_elbow/E1_part=1.obj"/>
         </geometry>
         <origin rpy="0.0 -0.0 0.0" xyz="0.0 0.0 0.0"/>
      </visual>
   </link>
   
  
   <link name="left_upper_forearm">
      
 
      <gravity>0</gravity>
      
    
      <collision>
         
      
         <origin rpy="0 0 0" xyz="0 0 -0.044"/>
         
      
         <geometry>
            
        
            <cylinder length="0.088" radius="0.06"/>
            
      
         </geometry>
         
    
      </collision>
      
    
      <inertial>
         
      
         <origin rpy="0 0 0" xyz="-0.00168 0.0046 0.13952"/>
         
      
         <mass value="2.24665"/>
         
      
         <inertia ixx="0.01667742825" ixy="0.00018403705" ixz="0.00018657629" iyy="0.01675457264" iyz="-0.00064732352" izz="0.0037463115"/>
         
    
      </inertial>
      
  
      <visual>
         <geometry>
            <mesh filename="../patched_visual_meshes/left_upper_forearm/W0_part=0.obj"/>
         </geometry>
         <origin rpy="0.0 -0.0 0.0" xyz="0.0 0.0 0.0"/>
      </visual>
      <visual>
         <geometry>
            <mesh filename="../patched_visual_meshes/left_upper_forearm/W0_part=1.obj"/>
         </geometry>
         <origin rpy="0.0 -0.0 0.0" xyz="0.0 0.0 0.0"/>
      </visual>
      <visual>
         <geometry>
            <mesh filename="../patched_visual_meshes/left_upper_forearm/W0_part=2.obj"/>
         </geometry>
         <origin rpy="0.0 -0.0 0.0" xyz="0.0 0.0 0.0"/>
      </visual>
      <visual>
         <geometry>
            <mesh filename="../patched_visual_meshes/left_upper_forearm/W0_part=3.obj"/>
         </geometry>
         <origin rpy="0.0 -0.0 0.0" xyz="0.0 0.0 0.0"/>
      </visual>
   </link>
   
  
   <link name="left_upper_forearm_visual">
      
 
      <gravity>0</gravity>
      
    
      <collision>
         
      
         <origin rpy="0 0 0" xyz="0 0 0.136"/>
         
      
         <geometry>
            
        
            <cylinder length="0.272" radius="0.06"/>
            
      
         </geometry>
         
    
      </collision>
      
    
      <inertial>
         
      
         <origin rpy="0 0 0" xyz="0 0 0"/>
         
      
         <mass value="0.0001"/>
         
      
         <inertia ixx="1e-08" ixy="0" ixz="0" iyy="1e-08" iyz="0" izz="1e-08"/>
         
    
      </inertial>
      
  
   </link>
   
  
   <link name="left_arm_itb">
      
 
      <gravity>0</gravity>
      
    
      <inertial>
         
      
         <origin rpy="0 0 0" xyz="0.000000 0.000000 0.000000"/>
         
      
         <mass value="0.0001"/>
         
      
         <inertia ixx="1e-08" ixy="0" ixz="0" iyy="1e-08" iyz="0" izz="1e-08"/>
         
    
      </inertial>
      
  
   </link>
   
  
   <link name="left_lower_forearm">
      
 
      <gravity>0</gravity>
      
    
      <collision>
         
      
         <origin rpy="0 0 0" xyz="0 0 0"/>
         
      
         <geometry>
            
        
            <cylinder length="0.10" radius="0.06"/>
            
      
         </geometry>
         
    
      </collision>
      
    
      <inertial>
         
      
         <origin rpy="0 0 0" xyz="0.06041 0.00697 0.006"/>
         
      
         <mass value="1.60979"/>
         
      
         <inertia ixx="0.00387607152" ixy="-0.00044384784" ixz="-0.00021115038" iyy="0.00700537914" iyz="0.00015348067" izz="0.0055275524"/>
         
    
      </inertial>
      
  
      <visual>
         <geometry>
            <mesh filename="../patched_visual_meshes/left_lower_forearm/W1_part=0.obj"/>
         </geometry>
         <origin rpy="-3.1415908336597447 -0.0 0.0" xyz="0.0 0.0 0.0"/>
      </visual>
      <visual>
         <geometry>
            <mesh filename="../patched_visual_meshes/left_lower_forearm/W1_part=1.obj"/>
         </geometry>
         <origin rpy="-3.1415908336597447 -0.0 0.0" xyz="0.0 0.0 0.0"/>
      </visual>
   </link>
   
  
   <link name="left_wrist">
      
 
      <gravity>0</gravity>
      
    
      <collision>
         
      
         <origin rpy="0 0 0" xyz="0 0 0"/>
         
      
         <geometry>
            
        
            <cylinder length="0.165" radius="0.06"/>
            
      
         </geometry>
         
    
      </collision>
      
    
      <inertial>
         
      
         <origin rpy="0 0 0" xyz="0.00198 0.00125 0.01855"/>
         
      
         <mass value="0.35093"/>
         
      
         <inertia ixx="0.00025289155" ixy="0.00000575311" ixz="-0.00000159345" iyy="0.0002688601" iyz="-0.00000519818" izz="0.0003074118"/>
         
    
      </inertial>
      
  
      <visual>
         <geometry>
            <mesh filename="../patched_visual_meshes/left_wrist/W2_part=0.obj"/>
         </geometry>
         <origin rpy="0.0 -0.0 0.0" xyz="0.0 0.0 0.0"/>
      </visual>
      <visual>
         <geometry>
            <mesh filename="../patched_visual_meshes/left_wrist/W2_part=1.obj"/>
         </geometry>
         <origin rpy="0.0 -0.0 0.0" xyz="0.0 0.0 0.0"/>
      </visual>
      <visual>
         <geometry>
            <mesh filename="../patched_visual_meshes/left_wrist/W2_part=2.obj"/>
         </geometry>
         <origin rpy="0.0 -0.0 0.0" xyz="0.0 0.0 0.0"/>
      </visual>
   </link>
   
  
   <link name="left_hand">
      
 
      <gravity>0</gravity>
      
    
      <collision>
         
      
         <origin rpy="0 0 0" xyz="0 0 -0.0232"/>
         
      
         <geometry>
            
        
            <cylinder length="0.0464" radius="0.04"/>
            
      
         </geometry>
         
    
      </collision>
      
    
      <inertial>
         
      
         <origin rpy="0 0 0" xyz="0.01093 0.00042 -0.01532"/>
         
      
         <mass value="0.19125"/>
         
      
         <inertia ixx="0.00017588" ixy="0.00000147073" ixz="0.0000243633" iyy="0.00021166377" iyz="0.00000172689" izz="0.00023745397"/>
         
    
      </inertial>
      
  
   </link>
   
  
   <link name="left_hand_camera">
      
 
      <gravity>0</gravity>
      
    
      <visual>
         
      
         <origin rpy="0 0 0" xyz="0 0 0"/>
         
      
         <geometry>
            
        
            <cylinder length="0.01" radius="0.02"/>
            
      
         </geometry>
         
      
         <material name="blue">
            
        
            <color rgba="0 0 1 0.8"/>
            
      
         </material>
         
    
      </visual>
      
    
      <inertial>
         
      
         <origin rpy="0 0 0" xyz="0 0 0"/>
         
      
         <mass value="0.0001"/>
         
      
         <inertia ixx="1e-08" ixy="0" ixz="0" iyy="1e-08" iyz="0" izz="1e-08"/>
         
    
      </inertial>
      
  
   </link>
   
  
   <link name="left_hand_camera_axis">
      
 
      <gravity>0</gravity>
      
    
      <inertial>
         
      
         <origin rpy="0 0 0" xyz="0 0 0"/>
         
      
         <mass value="0.0001"/>
         
      
         <inertia ixx="1e-08" ixy="0" ixz="0" iyy="1e-08" iyz="0" izz="1e-08"/>
         
    
      </inertial>
      
  
   </link>
   
  
   <link name="left_hand_range">
      
 
      <gravity>0</gravity>
      
    
      <visual>
         
      
         <origin rpy="0 0 0" xyz="0 0 0"/>
         
      
         <geometry>
            
        
            <box size="0.005 .02 .005"/>
            
      
         </geometry>
         
      
         <material name="blue">
            
        
            <color rgba="0 0 1 0.8"/>
            
      
         </material>
         
    
      </visual>
      
    
      <inertial>
         
      
         <origin rpy="0 0 0" xyz="0 0 0"/>
         
      
         <mass value="0.0001"/>
         
      
         <inertia ixx="1e-08" ixy="0" ixz="0" iyy="1e-08" iyz="0" izz="1e-08"/>
         
    
      </inertial>
      
  
   </link>
   
  
   <link name="left_hand_accelerometer">
      
 
      <gravity>0</gravity>
      
    
      <visual>
         
      
         <origin rpy="0 0 0" xyz="0 0 0"/>
         
      
         <geometry>
            
        
            <box size="0.01 0.01 0.01"/>
            
      
         </geometry>
         
      
         <material name="black">
            
        
            <color rgba="0 0 0 1"/>
            
      
         </material>
         
    
      </visual>
      
    
      <inertial>
         
      
         <origin rpy="0 0 0" xyz="0.000000 0.000000 0.000000"/>
         
      
         <mass value="0.0001"/>
         
      
         <inertia ixx="1e-08" ixy="0" ixz="0" iyy="1e-08" iyz="0" izz="1e-08"/>
         
    
      </inertial>
      
  
   </link>
   
  
   <link name="left_gripper_base">
      
 
      <gravity>0</gravity>
      
    
      <visual>
         
      
         <origin rpy="0 0 0" xyz="0 0 -0.02"/>
         
      
         <geometry>
            
        
            <box size="0.025 0.075 0.035"/>
            
      
         </geometry>
         
      
         <material name="darkred">
            
        
            <color rgba=".5 .1 .1 1"/>
            
      
         </material>
         
    
      </visual>
      
    
      <inertial>
         
      
         <origin rpy="0 0 0" xyz="0.000000 0.000000 0.000000"/>
         
      
         <mass value="0.0001"/>
         
      
         <inertia ixx="1e-08" ixy="0" ixz="0" iyy="1e-08" iyz="0" izz="1e-08"/>
         
    
      </inertial>
      
  
   </link>
   
  
   <link name="left_gripper">
      
 
      <gravity>0</gravity>
      
    
      <visual>
         
      
         <origin rpy="0 0 0" xyz="0 0 0"/>
         
      
         <geometry>
            
        
            <box size="0.01 0.01 0.01"/>
            
      
         </geometry>
         
      
         <material name="black">
            
        
            <color rgba="0 0 0 1"/>
            
      
         </material>
         
    
      </visual>
      
    
      <inertial>
         
      
         <origin rpy="0 0 0" xyz="0.000000 0.000000 0.000000"/>
         
      
         <mass value="0.0001"/>
         
      
         <inertia ixx="1e-08" ixy="0" ixz="0" iyy="1e-08" iyz="0" izz="1e-08"/>
         
    
      </inertial>
      
  
   </link>
   
  
   <joint name="left_torso_arm_mount" type="fixed">
      
    
      <origin rpy="0 0 0.7854" xyz="0.024645 0.219645 0.118588"/>
      
    
      <parent link="torso"/>
      
    
      <child link="left_arm_mount"/>
      
  
   </joint>
   
  
   <joint name="left_s0" type="revolute">
      
    
      <origin rpy="0 0 0" xyz="0.055695 0 0.011038"/>
      
    
      <axis xyz="0 0 1"/>
      
    
      <parent link="left_arm_mount"/>
      
    
      <child link="left_upper_shoulder"/>
      
    
      <limit effort="50.0" lower="-1.70167993878" upper="1.70167993878" velocity="1.5"/>
      
    
      <dynamics damping="0.7" friction="0.0"/>
      
  
   </joint>
   
  
   <joint name="left_s1" type="revolute">
      
    
      <origin rpy="-1.57079632679 0 0" xyz="0.069 0 0.27035"/>
      
    
      <axis xyz="0 0 1"/>
      
    
      <parent link="left_upper_shoulder"/>
      
    
      <child link="left_lower_shoulder"/>
      
    
      <limit effort="100.0" lower="-2.147" upper="1.047" velocity="1.5"/>
      
    
      <dynamics damping="0.7" friction="0.0"/>
      
  
   </joint>
   
  
   <joint name="left_e0" type="revolute">
      
    
      <origin rpy="1.57079632679 0 1.57079632679" xyz="0.102 0 0"/>
      
    
      <axis xyz="0 0 1"/>
      
    
      <parent link="left_lower_shoulder"/>
      
    
      <child link="left_upper_elbow"/>
      
    
      <limit effort="50.0" lower="-3.05417993878" upper="3.05417993878" velocity="1.5"/>
      
    
      <dynamics damping="0.7" friction="0.0"/>
      
  
   </joint>
   
  
   <joint name="left_e0_fixed" type="fixed">
      
    
      <origin rpy="1.57079632679 0 1.57079632679" xyz="0.107 0 0"/>
      
    
      <axis xyz="0 0 1"/>
      
    
      <parent link="left_lower_shoulder"/>
      
    
      <child link="left_upper_elbow_visual"/>
      
  
   </joint>
   
  
   <joint name="left_e1" type="revolute">
      
    
      <origin rpy="-1.57079632679 -1.57079632679 0" xyz="0.069 0 0.26242"/>
      
    
      <axis xyz="0 0 1"/>
      
    
      <parent link="left_upper_elbow"/>
      
    
      <child link="left_lower_elbow"/>
      
    
      <limit effort="50.0" lower="-0.05" upper="2.618" velocity="1.5"/>
      
    
      <dynamics damping="0.7" friction="0.0"/>
      
  
   </joint>
   
  
   <joint name="left_w0" type="revolute">
      
    
      <origin rpy="1.57079632679 0 1.57079632679" xyz="0.10359 0 0"/>
      
    
      <axis xyz="0 0 1"/>
      
    
      <parent link="left_lower_elbow"/>
      
    
      <child link="left_upper_forearm"/>
      
    
      <limit effort="15.0" lower="-3.059" upper="3.059" velocity="4.0"/>
      
    
      <dynamics damping="0.7" friction="0.0"/>
      
  
   </joint>
   
  
   <joint name="left_w0_fixed" type="fixed">
      
    
      <origin rpy="1.57079632679 0 1.57079632679" xyz="0.088 0 0"/>
      
    
      <axis xyz="0 0 1"/>
      
    
      <parent link="left_lower_elbow"/>
      
    
      <child link="left_upper_forearm_visual"/>
      
  
   </joint>
   
  
   <joint name="left_w0_to_itb_fixed" type="fixed">
      
    
      <origin rpy="-1.57079632679 0 1.57079632679" xyz="-0.0565 0 0.12"/>
      
    
      <axis xyz="0 0 1"/>
      
    
      <parent link="left_upper_forearm"/>
      
    
      <child link="left_arm_itb"/>
      
  
   </joint>
   
  
   <joint name="left_w1" type="revolute">
      
    
      <origin rpy="-1.57079632679 -1.57079632679 0" xyz="0.01 0 0.2707"/>
      
    
      <axis xyz="0 0 1"/>
      
    
      <parent link="left_upper_forearm"/>
      
    
      <child link="left_lower_forearm"/>
      
    
      <limit effort="15.0" lower="-1.57079632679" upper="2.094" velocity="4.0"/>
      
    
      <dynamics damping="0.7" friction="0.0"/>
      
  
   </joint>
   
  
   <joint name="left_w2" type="revolute">
      
    
      <origin rpy="1.57079632679 0 1.57079632679" xyz="0.115975 0 0"/>
      
    
      <axis xyz="0 0 1"/>
      
    
      <parent link="left_lower_forearm"/>
      
    
      <child link="left_wrist"/>
      
    
      <limit effort="15.0" lower="-3.059" upper="3.059" velocity="4.0"/>
      
    
      <dynamics damping="0.7" friction="0.0"/>
      
  
   </joint>
   
  
   <joint name="left_hand" type="fixed">
      
    
      <origin rpy="0 0 0" xyz="0 0 0.11355"/>
      
    
      <axis xyz="0 0 1"/>
      
    
      <parent link="left_wrist"/>
      
    
      <child link="left_hand"/>
      
    
      <dynamics damping="0.7" friction="0.0"/>
      
  
   </joint>
   
  
   <joint name="left_hand_camera" type="fixed">
      
    
      <origin rpy="0 0 -1.57079633" xyz="0.03825 0.012 0.015355"/>
      
    
      <parent link="left_hand"/>
      
    
      <child link="left_hand_camera"/>
      
  
   </joint>
   
  
   <joint name="left_hand_camera_axis" type="fixed">
      
    
      <origin rpy="0 0 0" xyz="0.03825 0.012 0.015355"/>
      
    
      <parent link="left_hand"/>
      
    
      <child link="left_hand_camera_axis"/>
      
  
   </joint>
   
  
   <joint name="left_hand_range" type="fixed">
      
    
      <origin rpy="0 -1.57079632679 -1.57079632679" xyz="0.032 -0.020245 0.0288"/>
      
    
      <parent link="left_hand"/>
      
    
      <child link="left_hand_range"/>
      
  
   </joint>
   
  
   <joint name="left_hand_accelerometer" type="fixed">
      
    
      <origin rpy="0 0 0" xyz="0.00198 0.000133 -0.0146"/>
      
    
      <parent link="left_hand"/>
      
    
      <child link="left_hand_accelerometer"/>
      
  
   </joint>
   
  
   <joint name="left_gripper_base" type="fixed">
      
    
      <origin rpy="0 0 0" xyz="0 0 0"/>
      
    
      <parent link="left_hand"/>
      
    
      <child link="left_gripper_base"/>
      
  
   </joint>
   
  
   <joint name="left_endpoint" type="fixed">
      
    
      <origin rpy="0 0 0" xyz="0.0 0 0.025"/>
      
    
      <parent link="left_gripper_base"/>
      
    
      <child link="left_gripper"/>
      
  
   </joint>
   

  

  
  
   <transmission name="right_tran1">
      
    
      <type>transmission_interface/SimpleTransmission</type>
      
    
      <joint name="right_s0">
         
      
         <hardwareInterface>EffortJointInterface</hardwareInterface>
         
    
      </joint>
      
    
      <actuator name="right_motor1">
         
      
         <hardwareInterface>EffortJointInterface</hardwareInterface>
         
      
         <mechanicalReduction>1</mechanicalReduction>
         
    
      </actuator>
      
  
   </transmission>
   
  
   <transmission name="right_tran2">
      
    
      <type>transmission_interface/SimpleTransmission</type>
      
    
      <joint name="right_s1">
         
      
         <hardwareInterface>EffortJointInterface</hardwareInterface>
         
    
      </joint>
      
    
      <actuator name="right_motor2">
         
      
         <hardwareInterface>EffortJointInterface</hardwareInterface>
         
      
         <mechanicalReduction>1</mechanicalReduction>
         
    
      </actuator>
      
  
   </transmission>
   
  
   <transmission name="right_tran3">
      
    
      <type>transmission_interface/SimpleTransmission</type>
      
    
      <joint name="right_e0">
         
      
         <hardwareInterface>EffortJointInterface</hardwareInterface>
         
    
      </joint>
      
    
      <actuator name="right_motor3">
         
      
         <hardwareInterface>EffortJointInterface</hardwareInterface>
         
      
         <mechanicalReduction>1</mechanicalReduction>
         
    
      </actuator>
      
  
   </transmission>
   
  
   <transmission name="right_tran4">
      
    
      <type>transmission_interface/SimpleTransmission</type>
      
    
      <joint name="right_e1">
         
      
         <hardwareInterface>EffortJointInterface</hardwareInterface>
         
    
      </joint>
      
    
      <actuator name="right_motor4">
         
      
         <hardwareInterface>EffortJointInterface</hardwareInterface>
         
      
         <mechanicalReduction>1</mechanicalReduction>
         
    
      </actuator>
      
  
   </transmission>
   
  
   <transmission name="right_tran5">
      
    
      <type>transmission_interface/SimpleTransmission</type>
      
    
      <joint name="right_w0">
         
      
         <hardwareInterface>EffortJointInterface</hardwareInterface>
         
    
      </joint>
      
    
      <actuator name="right_motor5">
         
      
         <hardwareInterface>EffortJointInterface</hardwareInterface>
         
      
         <mechanicalReduction>1</mechanicalReduction>
         
    
      </actuator>
      
  
   </transmission>
   
  
   <transmission name="right_tran6">
      
    
      <type>transmission_interface/SimpleTransmission</type>
      
    
      <joint name="right_w1">
         
      
         <hardwareInterface>EffortJointInterface</hardwareInterface>
         
    
      </joint>
      
    
      <actuator name="right_motor6">
         
      
         <hardwareInterface>EffortJointInterface</hardwareInterface>
         
      
         <mechanicalReduction>1</mechanicalReduction>
         
    
      </actuator>
      
  
   </transmission>
   
  
   <transmission name="right_tran7">
      
    
      <type>transmission_interface/SimpleTransmission</type>
      
    
      <joint name="right_w2">
         
      
         <hardwareInterface>EffortJointInterface</hardwareInterface>
         
    
      </joint>
      
    
      <actuator name="right_motor7">
         
      
         <hardwareInterface>EffortJointInterface</hardwareInterface>
         
      
         <mechanicalReduction>1</mechanicalReduction>
         
    
      </actuator>
      
  
   </transmission>
   

  
  
   <transmission name="left_tran1">
      
    
      <type>transmission_interface/SimpleTransmission</type>
      
    
      <joint name="left_s0">
         
      
         <hardwareInterface>EffortJointInterface</hardwareInterface>
         
    
      </joint>
      
    
      <actuator name="left_motor1">
         
      
         <hardwareInterface>EffortJointInterface</hardwareInterface>
         
      
         <mechanicalReduction>1</mechanicalReduction>
         
    
      </actuator>
      
  
   </transmission>
   
  
   <transmission name="left_tran2">
      
    
      <type>transmission_interface/SimpleTransmission</type>
      
    
      <joint name="left_s1">
               
      
         <hardwareInterface>EffortJointInterface</hardwareInterface>
         
    
      </joint>
      
    
      <actuator name="left_motor2">
         
      
         <hardwareInterface>EffortJointInterface</hardwareInterface>
         
      
         <mechanicalReduction>1</mechanicalReduction>
         
    
      </actuator>
      
  
   </transmission>
   
  
   <transmission name="left_tran3">
      
    
      <type>transmission_interface/SimpleTransmission</type>
      
    
      <joint name="left_e0">
         
      
         <hardwareInterface>EffortJointInterface</hardwareInterface>
         
    
      </joint>
      
    
      <actuator name="left_motor3">
         
      
         <hardwareInterface>EffortJointInterface</hardwareInterface>
         
      
         <mechanicalReduction>1</mechanicalReduction>
         
    
      </actuator>
      
  
   </transmission>
   
  
   <transmission name="left_tran4">
      
    
      <type>transmission_interface/SimpleTransmission</type>
      
    
      <joint name="left_e1">
         
      
         <hardwareInterface>EffortJointInterface</hardwareInterface>
         
    
      </joint>
      
    
      <actuator name="left_motor4">
         
      
         <hardwareInterface>EffortJointInterface</hardwareInterface>
         
      
         <mechanicalReduction>1</mechanicalReduction>
         
    
      </actuator>
      
  
   </transmission>
   
  
   <transmission name="left_tran5">
      
    
      <type>transmission_interface/SimpleTransmission</type>
      
    
      <joint name="left_w0">
         
      
         <hardwareInterface>EffortJointInterface</hardwareInterface>
         
    
      </joint>
      
    
      <actuator name="left_motor5">
         
      
         <hardwareInterface>EffortJointInterface</hardwareInterface>
         
      
         <mechanicalReduction>1</mechanicalReduction>
         
    
      </actuator>
      
  
   </transmission>
   
  
   <transmission name="left_tran6">
      
    
      <type>transmission_interface/SimpleTransmission</type>
      
    
      <joint name="left_w1">
         
      
         <hardwareInterface>EffortJointInterface</hardwareInterface>
         
    
      </joint>
      
    
      <actuator name="left_motor6">
         
      
         <hardwareInterface>EffortJointInterface</hardwareInterface>
         
      
         <mechanicalReduction>1</mechanicalReduction>
         
    
      </actuator>
      
  
   </transmission>
   
  
   <transmission name="left_tran7">
      
    
      <type>transmission_interface/SimpleTransmission</type>
      
    
      <joint name="left_w2">
         
      
         <hardwareInterface>EffortJointInterface</hardwareInterface>
         
    
      </joint>
      
    
      <actuator name="left_motor7">
         
      
         <hardwareInterface>EffortJointInterface</hardwareInterface>
         
      
         <mechanicalReduction>1</mechanicalReduction>
         
    
      </actuator>
      
  
   </transmission>
   

  
  
   <transmission name="head1">
      
    
      <type>transmission_interface/SimpleTransmission</type>
      
    
      <joint name="head_pan">
         
      
         <hardwareInterface>EffortJointInterface</hardwareInterface>
         
    
      </joint>
      
    
      <actuator name="head_motor1">
         
      
         <hardwareInterface>EffortJointInterface</hardwareInterface>
         
      
         <mechanicalReduction>1</mechanicalReduction>
         
    
      </actuator>
      
  
   </transmission>
   

  
  
   <gazebo>
      
    
      <plugin filename="libbaxter_gazebo_ros_control.so" name="baxter_ros_control">
         
      
         <robotNamespace>/robot</robotNamespace>
         
    
      </plugin>
      
  
   </gazebo>
   

  
  
   <gazebo reference="torso">
      
    
      <selfCollide>true</selfCollide>
      
  
   </gazebo>
   
  
   <gazebo reference="head_pan">
      
    
      <implicitSpringDamper>1</implicitSpringDamper>
      
  
   </gazebo>
   
  
   <gazebo reference="right_s0">
      
    
      <implicitSpringDamper>1</implicitSpringDamper>
      
  
   </gazebo>
   
  
   <gazebo reference="right_s1">
      
    
      <implicitSpringDamper>1</implicitSpringDamper>
      
  
   </gazebo>
   
  
   <gazebo reference="right_e0">
      
    
      <implicitSpringDamper>1</implicitSpringDamper>
      
  
   </gazebo>
   
  
   <gazebo reference="right_e1">
      
    
      <implicitSpringDamper>1</implicitSpringDamper>
      
  
   </gazebo>
   
  
   <gazebo reference="right_w0">
      
    
      <implicitSpringDamper>1</implicitSpringDamper>
      
  
   </gazebo>
   
  
   <gazebo reference="right_w1">
      
    
      <implicitSpringDamper>1</implicitSpringDamper>
      
  
   </gazebo>
   
  
   <gazebo reference="right_w2">
      
    
      <implicitSpringDamper>1</implicitSpringDamper>
      
  
   </gazebo>
   
  
   <gazebo reference="left_s0">
      
    
      <implicitSpringDamper>1</implicitSpringDamper>
      
  
   </gazebo>
   
  
   <gazebo reference="left_s1">
      
    
      <implicitSpringDamper>1</implicitSpringDamper>
      
  
   </gazebo>
   
  
   <gazebo reference="left_e0">
      
    
      <implicitSpringDamper>1</implicitSpringDamper>
      
  
   </gazebo>
   
  
   <gazebo reference="left_e1">
      
    
      <implicitSpringDamper>1</implicitSpringDamper>
      
  
   </gazebo>
   
  
   <gazebo reference="left_w0">
      
    
      <implicitSpringDamper>1</implicitSpringDamper>
      
  
   </gazebo>
   
  
   <gazebo reference="left_w1">
      
    
      <implicitSpringDamper>1</implicitSpringDamper>
      
  
   </gazebo>
   
  
   <gazebo reference="left_w2">
      
    
      <implicitSpringDamper>1</implicitSpringDamper>
      
  
   </gazebo>
   
  
   <gazebo reference="head_camera">
      
    
      <sensor name="head_camera" type="camera">
         
      
         <update_rate>30.0</update_rate>
         
      
         <camera name="head_camera">
            
        
            <pose>0.0 0.21 0.0 0.0 -0.8 -1.570796327 </pose>
            
        
            <horizontal_fov>1.3962634</horizontal_fov>
            
        
            <image>
               
          
               <width>800</width>
               
          
               <height>800</height>
               
          
               <format>R8G8B8</format>
               
        
            </image>
            
        
            <clip>
               
          
               <near>0.02</near>
               
          
               <far>300</far>
               
        
            </clip>
            
        
            <noise>
               
          
               <type>gaussian</type>
               
          
               <mean>0.0</mean>
               
          
               <stddev>0.007</stddev>
               
        
            </noise>
            
      
         </camera>
         
      
         <plugin filename="libgazebo_ros_camera.so" name="camera_controller">
            
        
            <alwaysOn>true</alwaysOn>
            
        
            <updateRate>0.0</updateRate>
            
        
            <cameraName>head_camera</cameraName>
            
        
            <imageTopicName>image</imageTopicName>
            
        
            <cameraInfoTopicName>camera_info</cameraInfoTopicName>
            
        
            <frameName>head_camera</frameName>
            
        
            <hackBaseline>0.07</hackBaseline>
            
        
            <distortionK1>0.0</distortionK1>
            
        
            <distortionK2>0.0</distortionK2>
            
        
            <distortionK3>0.0</distortionK3>
            
        
            <distortionT1>0.0</distortionT1>
            
        
            <distortionT2>0.0</distortionT2>
            
        
            <robotNamespace>/cameras</robotNamespace>
            
      
         </plugin>
         
    
      </sensor>
      
  
   </gazebo>
   
  
   <gazebo reference="right_hand_camera">
      
    
      <sensor name="right_hand_camera" type="camera">
         
      
         <update_rate>30.0</update_rate>
         
      
         <camera name="right_hand_camera">
            
        
            <pose>0.0 0.0 0.0 0.0 -1.570796327 1.570796327 </pose>
            
        
            <horizontal_fov>1.3962634</horizontal_fov>
            
        
            <image>
               
          
               <width>800</width>
               
          
               <height>800</height>
               
          
               <format>R8G8B8</format>
               
        
            </image>
            
        
            <clip>
               
          
               <near>0.02</near>
               
          
               <far>300</far>
               
        
            </clip>
            
        
            <noise>
               
          
               <type>gaussian</type>
               
          
               <mean>0.0</mean>
               
          
               <stddev>0.007</stddev>
               
        
            </noise>
            
      
         </camera>
         
      
         <plugin filename="libgazebo_ros_camera.so" name="camera_controller">
            
        
            <alwaysOn>true</alwaysOn>
            
        
            <updateRate>0.0</updateRate>
            
        
            <cameraName>right_hand_camera</cameraName>
            
        
            <imageTopicName>image</imageTopicName>
            
        
            <cameraInfoTopicName>camera_info</cameraInfoTopicName>
            
        
            <frameName>right_hand_camera</frameName>
            
        
            <hackBaseline>0.07</hackBaseline>
            
        
            <distortionK1>0.0</distortionK1>
            
        
            <distortionK2>0.0</distortionK2>
            
        
            <distortionK3>0.0</distortionK3>
            
        
            <distortionT1>0.0</distortionT1>
            
        
            <distortionT2>0.0</distortionT2>
            
        
            <robotNamespace>/cameras</robotNamespace>
            
      
         </plugin>
         
    
      </sensor>
      
  
   </gazebo>
   
  
   <gazebo reference="left_hand_camera">
      
    
      <sensor name="left_hand_camera" type="camera">
         
      
         <update_rate>30.0</update_rate>
         
      
         <camera name="left_hand_camera">
            
        
            <pose>0.0 0.0 0.0 0.0 -1.570796327 1.570796327 </pose>
            
        
            <horizontal_fov>1.3962634</horizontal_fov>
            
        
            <image>
               
          
               <width>800</width>
               
          
               <height>800</height>
               
          
               <format>R8G8B8</format>
               
        
            </image>
            
        
            <clip>
               
          
               <near>0.02</near>
               
          
               <far>300</far>
               
        
            </clip>
            
        
            <noise>
               
          
               <type>gaussian</type>
               
          
               <mean>0.0</mean>
               
          
               <stddev>0.007</stddev>
               
        
            </noise>
            
      
         </camera>
         
      
         <plugin filename="libgazebo_ros_camera.so" name="camera_controller">
            
        
            <alwaysOn>true</alwaysOn>
            
        
            <updateRate>0.0</updateRate>
            
        
            <cameraName>left_hand_camera</cameraName>
            
        
            <imageTopicName>image</imageTopicName>
            
        
            <cameraInfoTopicName>camera_info</cameraInfoTopicName>
            
        
            <frameName>left_hand_camera</frameName>
            
        
            <hackBaseline>0.07</hackBaseline>
            
        
            <distortionK1>0.0</distortionK1>
            
        
            <distortionK2>0.0</distortionK2>
            
        
            <distortionK3>0.0</distortionK3>
            
        
            <distortionT1>0.0</distortionT1>
            
        
            <distortionT2>0.0</distortionT2>
            
        
            <robotNamespace>/cameras</robotNamespace>
            
      
         </plugin>
         
    
      </sensor>
      
  
   </gazebo>
   
  
   <gazebo reference="display">
      
    
      <visual>
         
      
         <plugin filename="libgazebo_ros_video.so" name="screen_video_controller">
            
        
            <height>600</height>
            
        
            <width>1024</width>
            
        
            <topicName>/robot/xdisplay</topicName>
            
      
         </plugin>
         
    
      </visual>
      
  
   </gazebo>
   
  
   <gazebo reference="sonar_ring">
      
    
      <sensor name="sonar" type="ray">
         
      
         <pose>0.0 0.0 0.0 0.0 0.0 0.0</pose>
         
      
         <ray>
            
        
            <scan>
               
          
               <horizontal>
                  
            
                  <samples>12</samples>
                  
            
                  <resolution>1.0</resolution>
                  
            
                  <min_angle>-3.14</min_angle>
                  
            
                  <max_angle>3.14</max_angle>
                  
          
               </horizontal>
               
          
               <vertical>
                  
            
                  <samples>2</samples>
                  
            
                  <resolution>1.0</resolution>
                  
            
                  <min_angle>-0.001</min_angle>
                  
            
                  <max_angle>0</max_angle>
                  
          
               </vertical>
               
        
            </scan>
            
        
            <range>
               
          
               <min>0.05</min>
               
          
               <max>50.0</max>
               
        
            </range>
            
      
         </ray>
         
      
         <plugin filename="libgazebo_ros_block_laser.so" name="sonar_plugin">
            
        
            <gaussianNoise>0.00</gaussianNoise>
            
        
            <alwaysOn>true</alwaysOn>
            
        
            <updateRate>100.0</updateRate>
            
        
            <topicName>/robot/sonar/head_sonar/state</topicName>
            
        
            <frameName>sonar_ring</frameName>
            
      
         </plugin>
         
      
         <always_on>true</always_on>
         
      
         <update_rate>100.0</update_rate>
         
    
      </sensor>
      
  
   </gazebo>
   
  
   <gazebo reference="right_hand_range">
      
    
      <sensor name="ir_right" type="ray">
         
      
         <pose>0.0 0.0 0.0 0.0 0.0 0.0</pose>
         
      
         <ray>
            
        
            <scan>
               
          
               <horizontal>
                  
            
                  <samples>1</samples>
                  
            
                  <resolution>1.0</resolution>
                  
            
                  <min_angle>-0.5</min_angle>
                  
            
                  <max_angle>0.5</max_angle>
                  
          
               </horizontal>
               
        
            </scan>
            
        
            <range>
               
          
               <min>0.004</min>
               
          
               <max>0.4</max>
               
        
            </range>
            
      
         </ray>
         
      
         <plugin filename="libgazebo_ros_laser.so" name="plugin_3">
            
        
            <gaussianNoise>0.005</gaussianNoise>
            
        
            <alwaysOn>true</alwaysOn>
            
        
            <updateRate>100</updateRate>
            
        
            <topicName>/sim/laserscan/right_hand_range/state</topicName>
            
        
            <frameName>right_hand_range</frameName>
            
      
         </plugin>
         
      
         <always_on>true</always_on>
         
      
         <update_rate>100.0</update_rate>
         
    
      </sensor>
      
  
   </gazebo>
   
  
   <gazebo reference="left_hand_range">
      
    
      <sensor name="ir_left" type="ray">
         
      
         <pose>0.0 0.0 0.0 0.0 0.0 0.0</pose>
         
      
         <ray>
            
        
            <scan>
               
          
               <horizontal>
                  
            
                  <samples>1</samples>
                  
            
                  <resolution>1.0</resolution>
                  
            
                  <min_angle>-0.5</min_angle>
                  
            
                  <max_angle>0.5</max_angle>
                  
          
               </horizontal>
               
        
            </scan>
            
        
            <range>
               
          
               <min>0.004</min>
               
          
               <max>0.4</max>
               
        
            </range>
            
      
         </ray>
         
      
         <plugin filename="libgazebo_ros_laser.so" name="plugin_4">
            
        
            <gaussianNoise>0.005</gaussianNoise>
            
        
            <alwaysOn>true</alwaysOn>
            
        
            <updateRate>100</updateRate>
            
        
            <topicName>/sim/laserscan/left_hand_range/state</topicName>
            
        
            <frameName>left_hand_range</frameName>
            
      
         </plugin>
         
      
         <always_on>true</always_on>
         
      
         <update_rate>100.0</update_rate>
         
    
      </sensor>
      
  
   </gazebo>
   

</robot>
